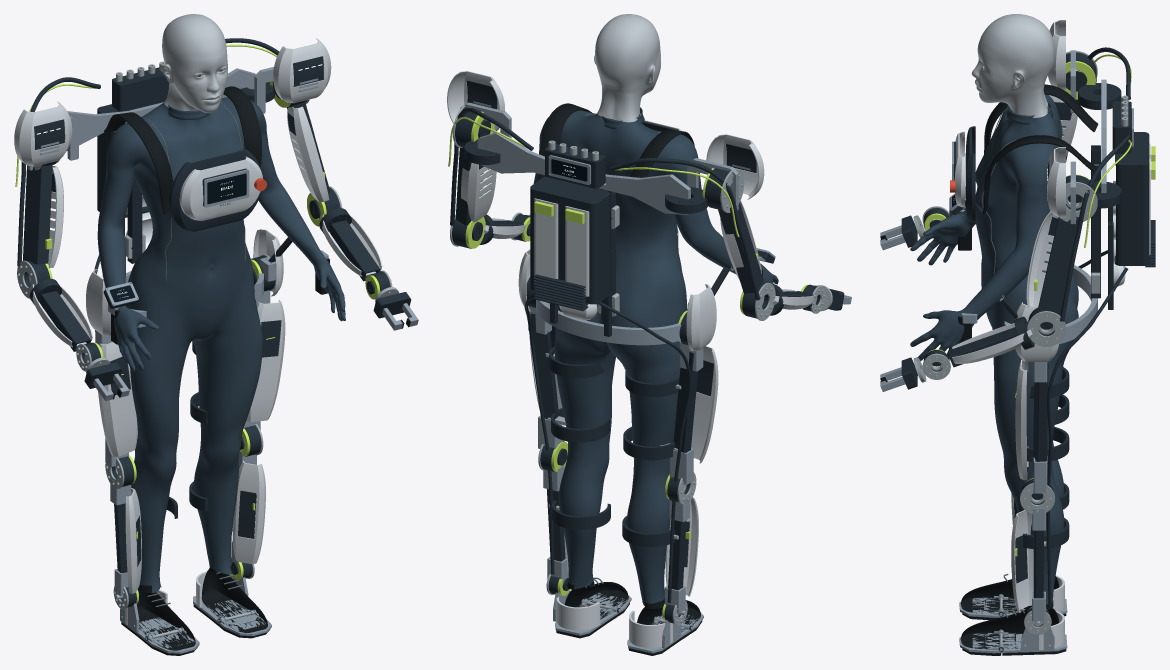
The model's file is atlas-r04.glb.
The picture shows the model from 3 angles, left to right: view 1: azimuth 30°, elevation 25°; view 2: azimuth 150°, elevation 25°; view 3: azimuth 270°, elevation 25°; orthographic projection.
Visible parts, largest first — view 1: HUMAN__human__C__07, HUMAN__human__C__05, H01__soft__C__05, A04__frame__R__03, A04__frame__L__03, A02__frame__L__03, H01__shell__C__02, L02__shell__L__02, L02__shell__R__02, L04__shell__R__02, A01__shell__R__02, A01__shell__L__02 (+23 smaller); view 2: HUMAN__human__C__07, P01__frame__C__03, P04__utilities__C__03, F01__frame__C__01, H02__soft__R__03, H02__soft__L__03, F03__frame__C__01, HUMAN__human__C__05, H01__soft__C__05, P01__shell__L__02, P01__shell__R__02, L02__shell__L__02 (+28 smaller); view 3: HUMAN__human__C__07, P01__frame__C__03, HUMAN__human__C__05, P04__utilities__C__03, H01__soft__C__05, A02__frame__R__03, A04__frame__R__03, H02__soft__R__03, L04__shell__R__02, A02__shell__R__02, L02__shell__R__02, L02__frame__R__03 (+30 smaller).
Boxes of the visible parts, box(x1,y1,x2,y2) form: HUMAN__human__C__07: box(97, 14, 345, 592); HUMAN__human__C__05: box(136, 568, 267, 650); H01__soft__C__05: box(104, 86, 261, 214); A04__frame__R__03: box(319, 208, 411, 318); A04__frame__L__03: box(29, 278, 122, 388); A02__frame__L__03: box(23, 164, 52, 264); H01__shell__C__02: box(179, 156, 262, 220); L02__shell__L__02: box(98, 342, 137, 456); L02__shell__R__02: box(246, 300, 285, 421); L04__shell__R__02: box(232, 460, 265, 564); A01__shell__R__02: box(273, 38, 331, 103); A01__shell__L__02: box(14, 101, 72, 166); HUMAN__human__C__07: box(533, 14, 778, 608); P01__frame__C__03: box(530, 177, 610, 304); P04__utilities__C__03: box(450, 108, 760, 602); F01__frame__C__01: box(477, 132, 690, 214); H02__soft__R__03: box(549, 346, 610, 529); H02__soft__L__03: box(622, 371, 679, 547); F03__frame__C__01: box(536, 300, 688, 345); HUMAN__human__C__05: box(564, 582, 700, 631); H01__soft__C__05: box(539, 103, 694, 177); P01__shell__L__02: box(565, 206, 589, 296); P01__shell__R__02: box(534, 198, 558, 283); L02__shell__L__02: box(691, 346, 718, 463); HUMAN__human__C__07: box(910, 14, 1078, 610); P01__frame__C__03: box(1115, 132, 1149, 265); HUMAN__human__C__05: box(960, 576, 1059, 649); P04__utilities__C__03: box(1046, 47, 1130, 607); H01__soft__C__05: box(982, 84, 1098, 214); A02__frame__R__03: box(1038, 217, 1078, 314); A04__frame__R__03: box(901, 316, 1034, 389); H02__soft__R__03: box(1023, 367, 1069, 548); L04__shell__R__02: box(1011, 510, 1033, 612); A02__shell__R__02: box(1026, 211, 1058, 307); L02__shell__R__02: box(1015, 359, 1028, 480); L02__frame__R__03: box(1033, 361, 1048, 472).
Bounding box in the file's own units: 0.9821 × 1.77 × 0.7222.
